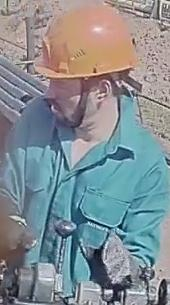gloves: (80, 230, 148, 297)
helmet: (33, 2, 140, 91)
vest: (1, 90, 169, 301)
